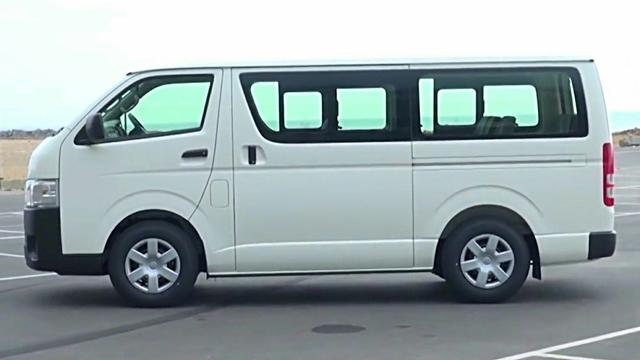van: (22, 56, 616, 306)
